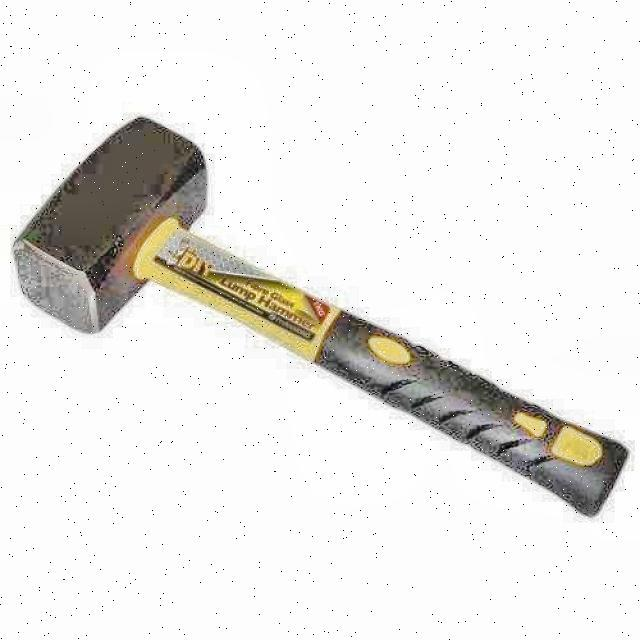hammer: (13, 115, 633, 519)
